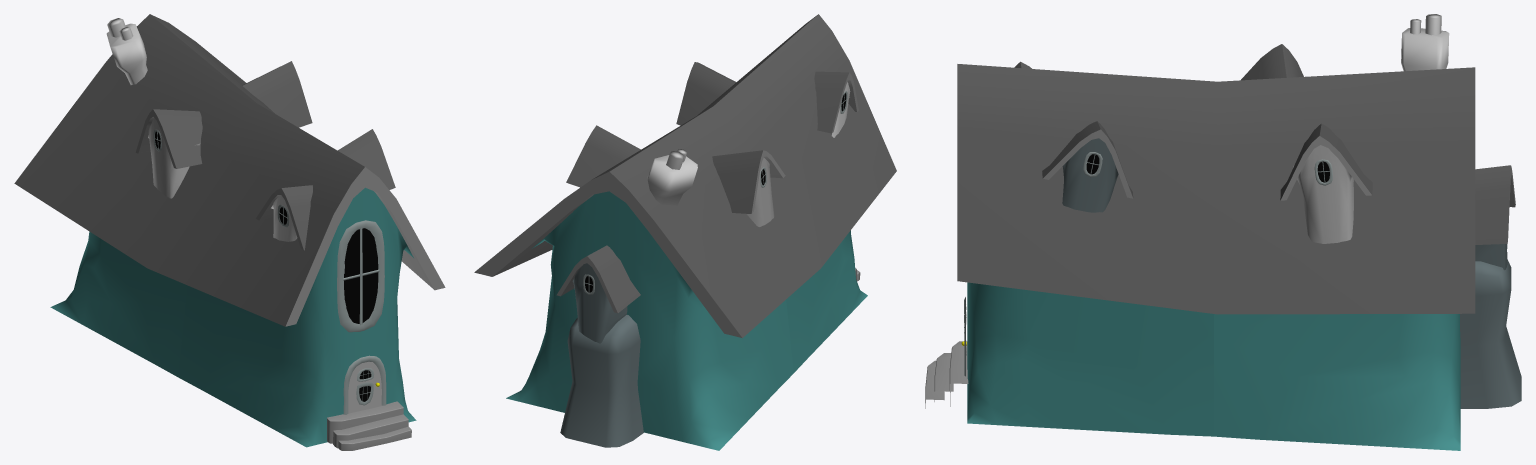
File: House2.fbx
The picture shows the model from 3 angles, left to right: view 1: azimuth 30°, elevation 25°; view 2: azimuth 150°, elevation 25°; view 3: azimuth 270°, elevation 25°; orthographic projection. The views are drawn at different scales.
Parts seen in each view (by area): view 1: polySurface219, polySurface167, polySurface243, polySurface208, polySurface221, polySurface170, polySurface185, polySurface154, polySurface77, polySurface238, polySurface229, polySurface228 (+3 smaller); view 2: polySurface219, polySurface167, pCube51, polySurface236, polySurface243, polySurface170, polySurface221, polySurface154, polySurface77, polySurface238; view 3: polySurface219, polySurface167, pCube51, polySurface77, polySurface79, polySurface236, polySurface154, polySurface221, polySurface243, polySurface229, polySurface228.
Part boxes in pixels (x1,y1,x2,y2): polySurface219: (14,14,445,326); polySurface167: (50,187,416,447); polySurface243: (135,109,202,168); polySurface208: (344,228,378,323); polySurface221: (242,61,312,127); polySurface170: (256,185,312,250); polySurface185: (337,220,384,332); polySurface154: (106,18,147,84); polySurface77: (338,129,395,189); polySurface238: (148,118,200,198); polySurface229: (327,401,403,443); polySurface228: (333,414,408,448); polySurface219: (474,14,896,337); polySurface167: (506,191,867,450); pCube51: (560,315,643,447); polySurface236: (556,245,640,343); polySurface243: (712,150,785,213); polySurface170: (814,71,858,137); polySurface221: (566,125,640,187); polySurface154: (647,148,697,205); polySurface77: (676,62,736,125); polySurface238: (725,158,774,226); polySurface219: (957,64,1475,314); polySurface167: (967,282,1460,450); pCube51: (1460,259,1521,408); polySurface77: (1042,121,1133,212); polySurface79: (1293,145,1353,243); polySurface236: (1475,165,1515,270); polySurface154: (1401,14,1449,71); polySurface221: (1280,123,1372,200); polySurface243: (1241,44,1303,80); polySurface229: (949,341,968,406); polySurface228: (934,353,953,401).
Size of the model in its own units: 19.36 by 19.32 by 30.22.
